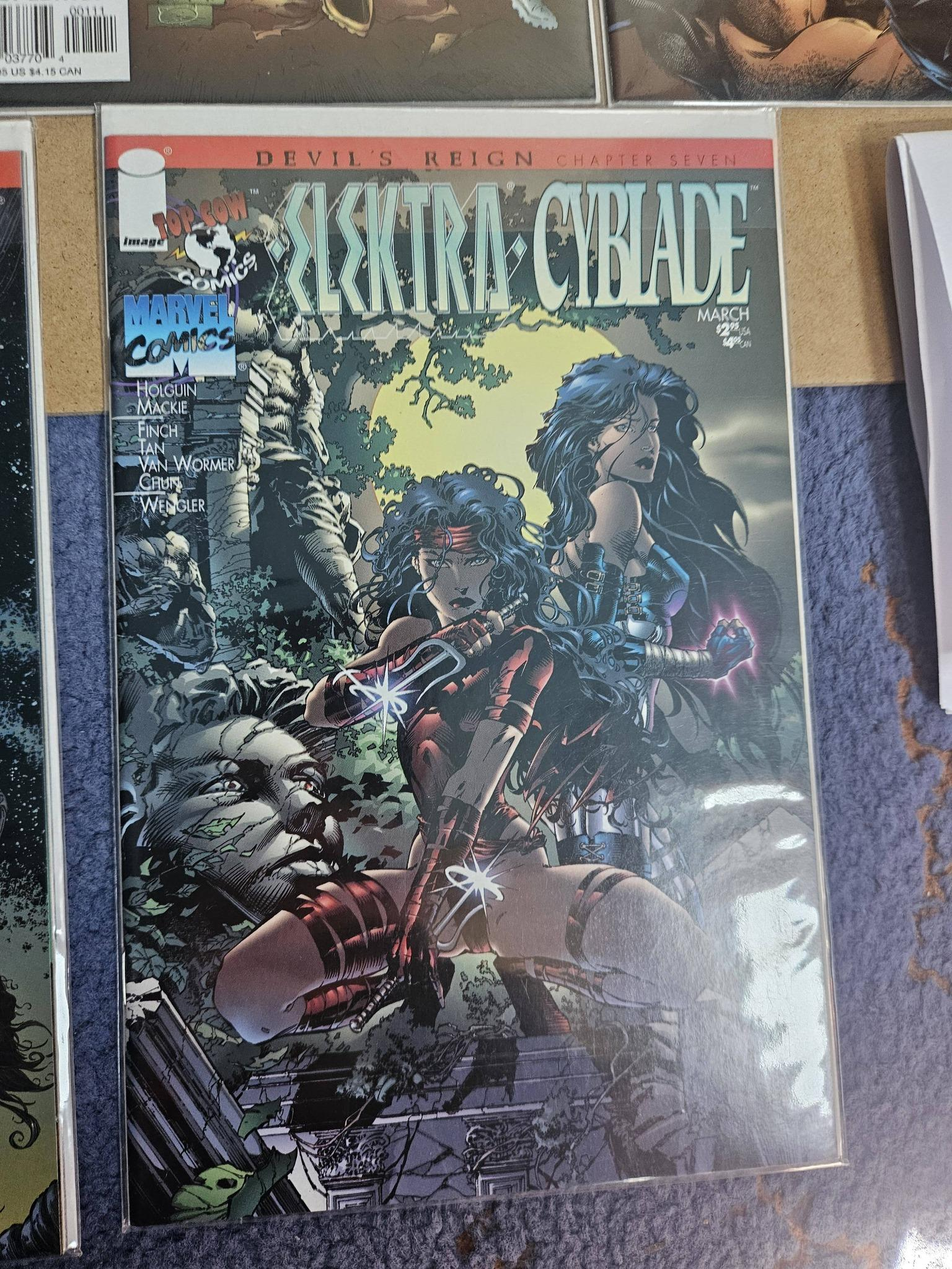comic: (82, 80, 842, 1224)
